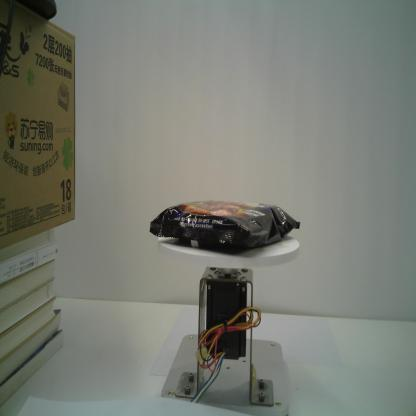Instant Noodles: (149, 198, 301, 257)
